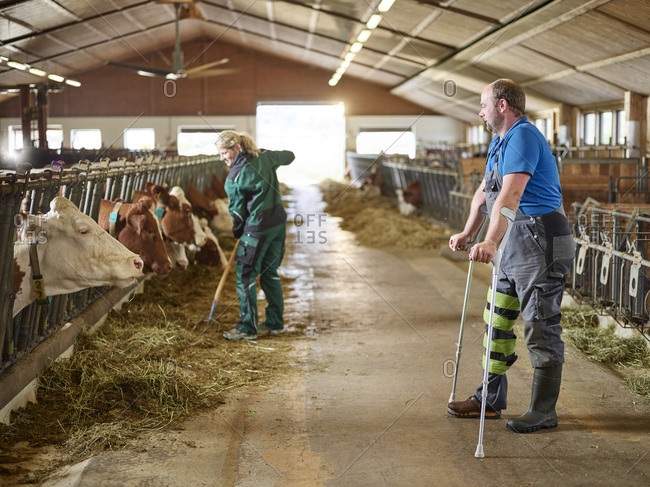crutches: (448, 79, 571, 458)
